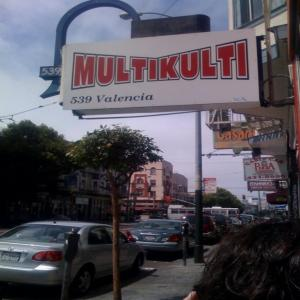Vehicle-registration-plate: (1, 251, 21, 263), (144, 236, 156, 241)
